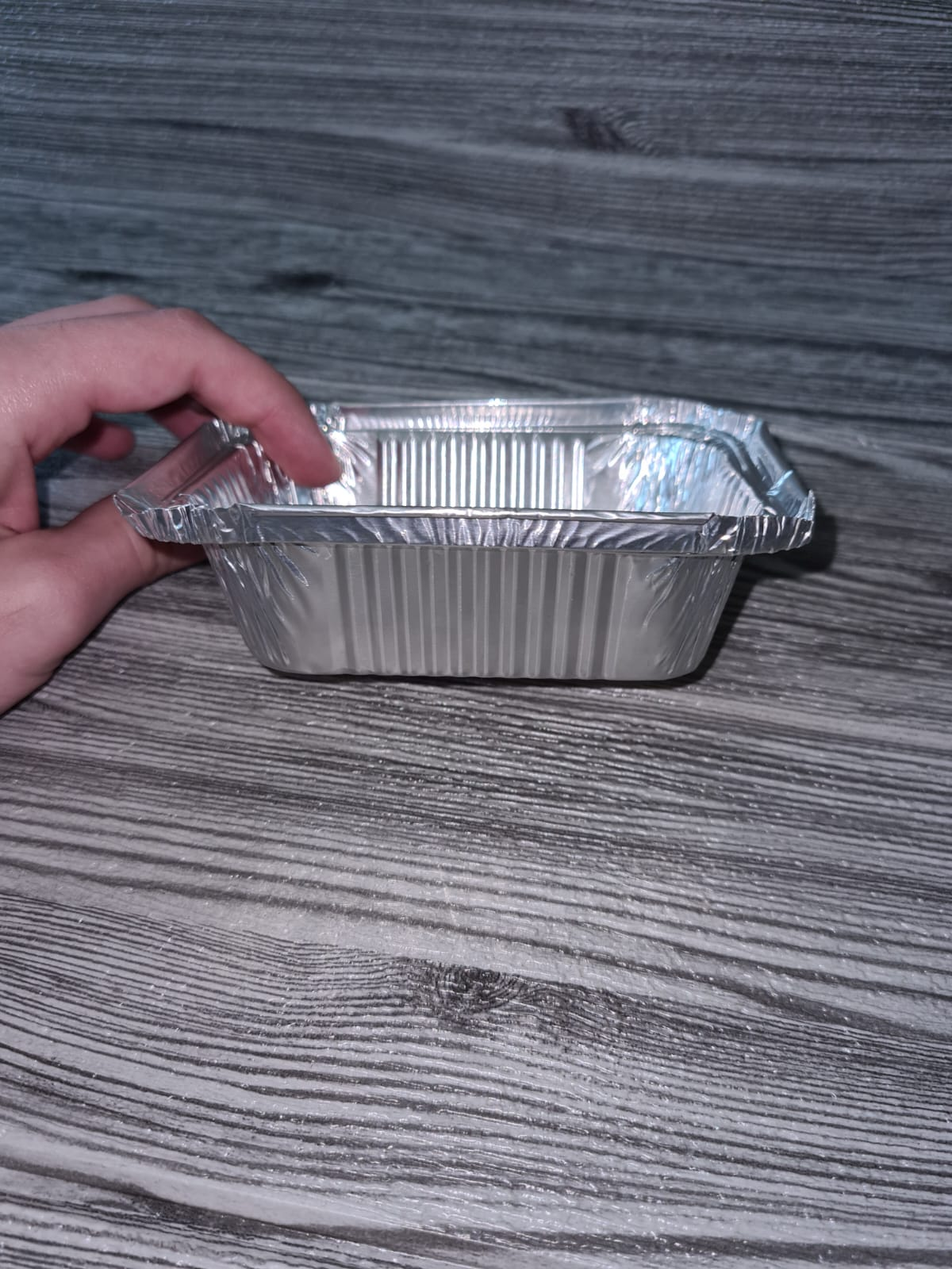Metal: (148, 397, 810, 683)
